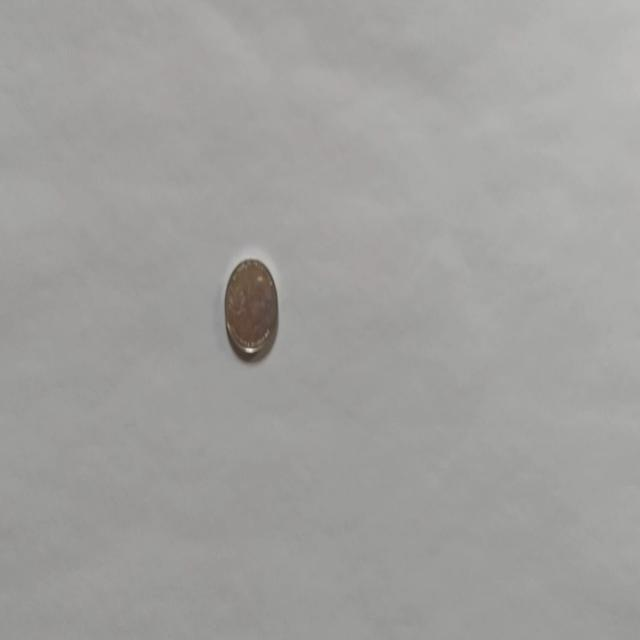lima ratus rupiah: (223, 256, 279, 360)
